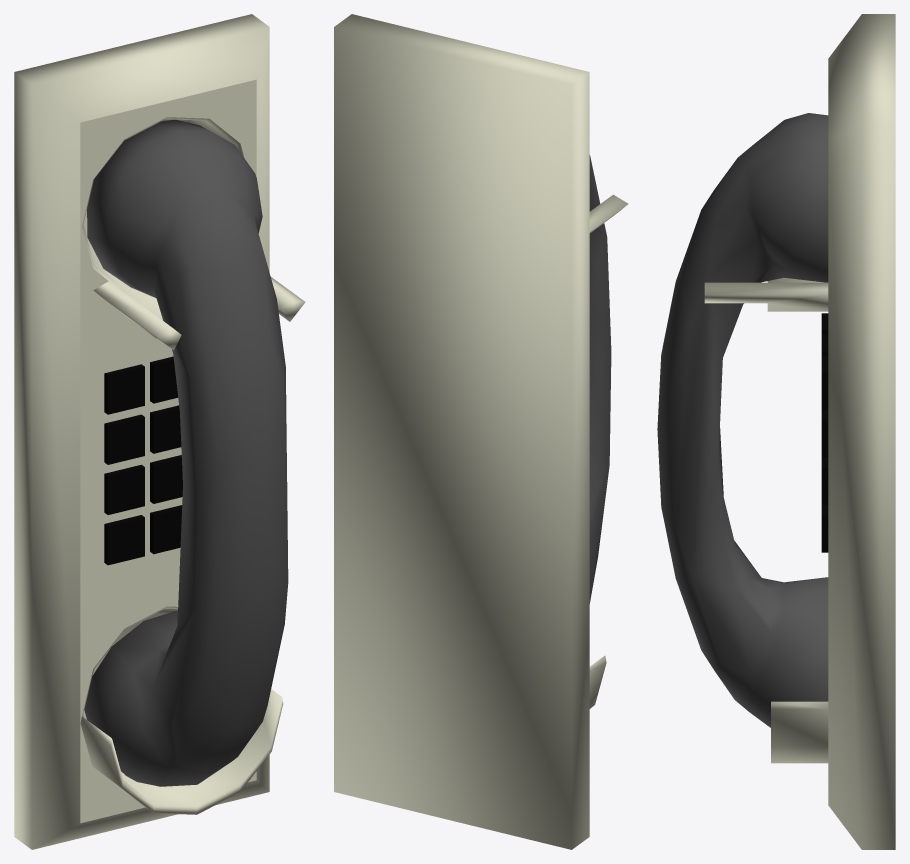
The model's file is telephone.dae.
3 renders of one model, left to right at view 1: azimuth 30°, elevation 25°; view 2: azimuth 150°, elevation 25°; view 3: azimuth 270°, elevation 25°, orthographic. The views are drawn at different scales.
Visible parts, largest first — view 1: base (×11), phone; view 2: base (×3), phone; view 3: base (×3), phone.
Part boxes in pixels (x1,y1,x2,y2): base (×11): [14, 14, 305, 849]; phone: [84, 119, 288, 786]; base (×3): [334, 14, 628, 849]; phone: [589, 155, 611, 603]; base (×3): [704, 14, 895, 849]; phone: [657, 113, 828, 727].
Size of the model in its own units: 3.05 by 2.79 by 9.38.
